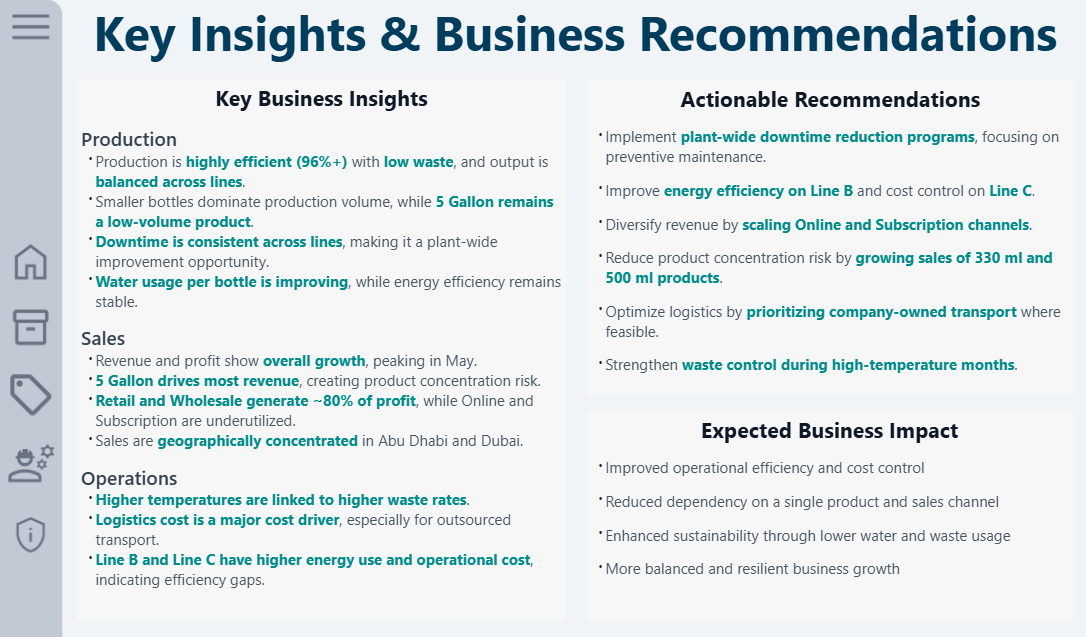

The dashboard page shown, as its layout file describes it:
{"tool":"powerbi","page":{"name":"Insight & Recommendation","canvas":[1360,800],"ordinal":4},"visuals":[{"type":"shape","box":[0,0,80,800],"z":0,"group":"g1"},{"type":"shape","box":[97.1,0,1245.7,80],"z":0},{"type":"group","id":"g1","title":"Group 1","box":[0,0,80,800],"z":1000},{"type":"actionButton","box":[0,378.5,80,63.3],"z":1000,"group":"g1"},{"type":"actionButton","box":[0,294.9,80,67.1],"z":2000,"group":"g1"},{"type":"textbox","box":[97.7,100.2,611.1,676.2],"z":3000},{"type":"actionButton","box":[0,545.6,80,70.9],"z":3000,"group":"g1"},{"type":"textbox","box":[735,101.7,608.3,393.3],"z":4000},{"type":"actionButton","box":[0,459.5,80,69.6],"z":4000,"group":"g1"},{"type":"textbox","box":[735,515,606.7,261.7],"z":5000},{"type":"actionButton","box":[0,636.7,80,67.1],"z":5000,"group":"g1"},{"type":"actionButton","box":[0,0,80,69.6],"z":6000,"group":"g1"}]}

Visuals, with their boxes on the page's 1360x800 design canvas (x1, y1, x2, y2). These are canvas units, not pixel positions in the 1086x637 screenshot, which may show the page scaled, cropped or inside an application window:
shape: detection(0, 0, 80, 800)
shape: detection(97, 0, 1343, 80)
"Group 1" group: detection(0, 0, 80, 800)
actionButton: detection(0, 378, 80, 442)
actionButton: detection(0, 295, 80, 362)
textbox: detection(98, 100, 709, 776)
actionButton: detection(0, 546, 80, 616)
textbox: detection(735, 102, 1343, 495)
actionButton: detection(0, 460, 80, 529)
textbox: detection(735, 515, 1342, 777)
actionButton: detection(0, 637, 80, 704)
actionButton: detection(0, 0, 80, 70)
